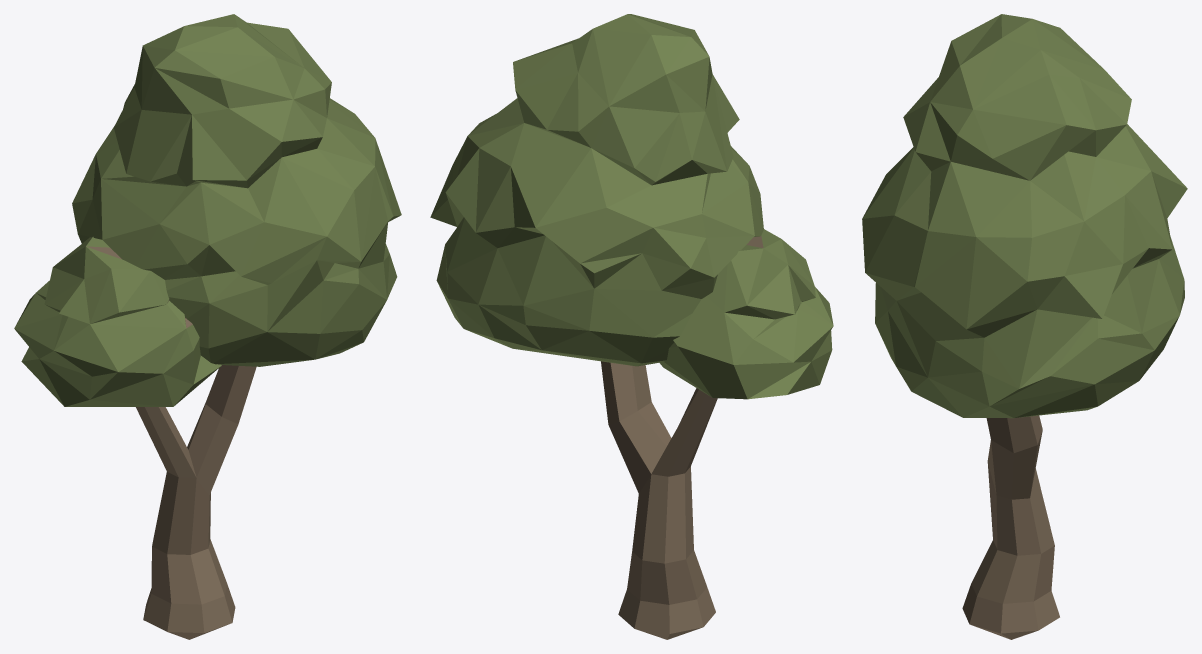
Rendered from SM_Tree_Round_04.fbx.
3 renders of one model, left to right at view 1: azimuth 30°, elevation 25°; view 2: azimuth 150°, elevation 25°; view 3: azimuth 270°, elevation 25°, orthographic. The views are drawn at different scales.
Parts seen in each view (by area): view 1: SM_Tree_Round_04; view 2: SM_Tree_Round_04; view 3: SM_Tree_Round_04.
Part boxes in pixels (x1,y1,x2,y2): SM_Tree_Round_04: (14, 14, 401, 639); SM_Tree_Round_04: (430, 14, 833, 639); SM_Tree_Round_04: (862, 14, 1187, 639).
Bounding box in the file's own units: 91.69 × 151 × 71.4.
Materials: 1 (1 with a texture image).
